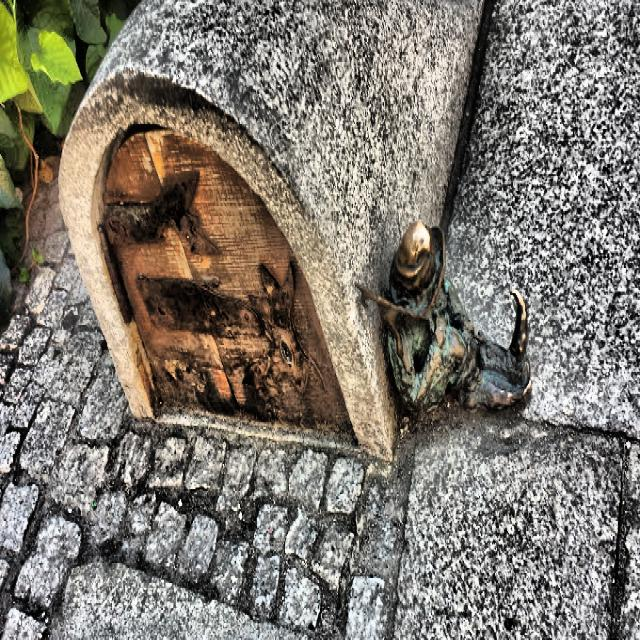Spioch: (358, 220, 530, 409)
